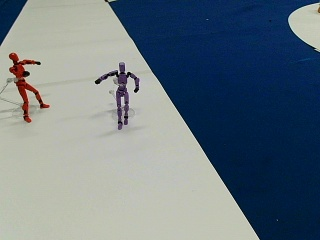pedestrian: (94, 63, 140, 126), (8, 51, 48, 120)
